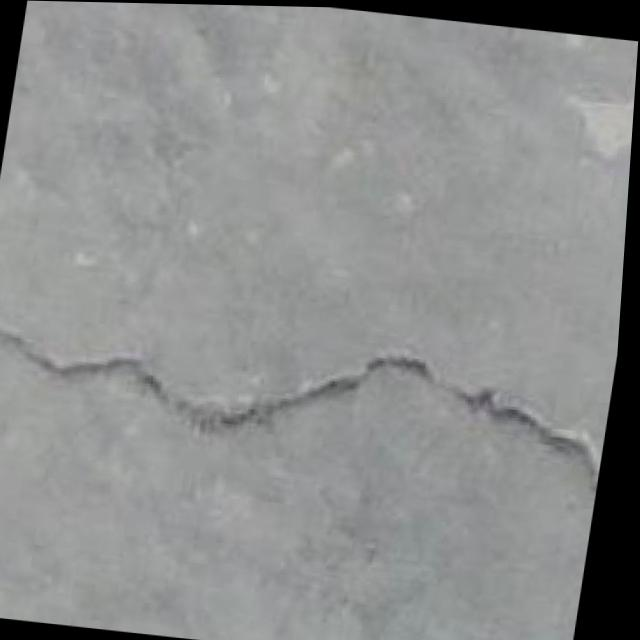Crack: (0, 294, 623, 500)
